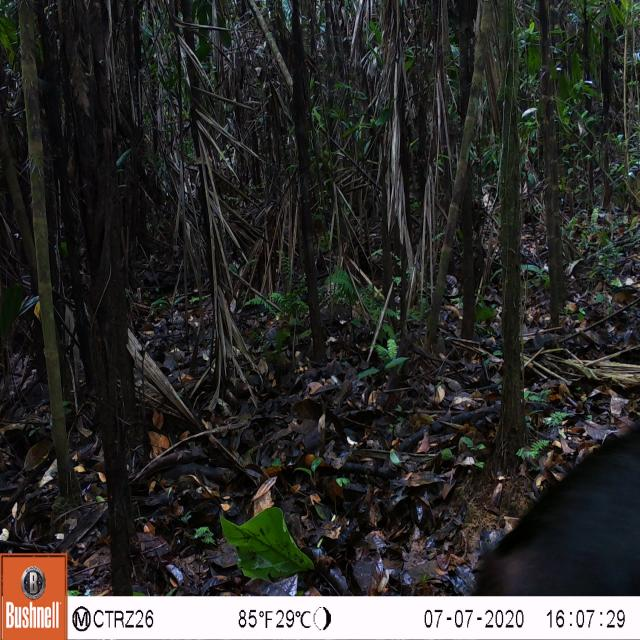White-lipped Peccary: (473, 422, 640, 601)
